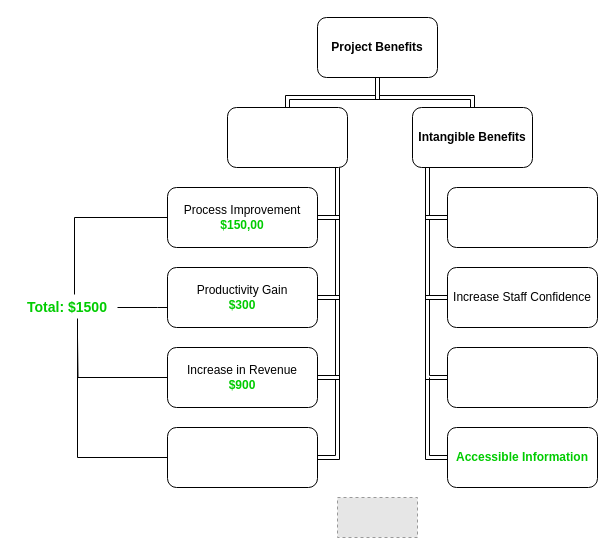
This 615x555 diagram has some shape labels left out. Grey dashed boxes stand in for pictures. Each missing label, with the centre of its shape:
"Control over Costs $150" goes at (x=242, y=457).
"Increase Compliance" goes at (x=522, y=377).
"Increase Customer Satisfaction" goes at (x=522, y=217).
"Tangible Benefits" goes at (x=287, y=137).
